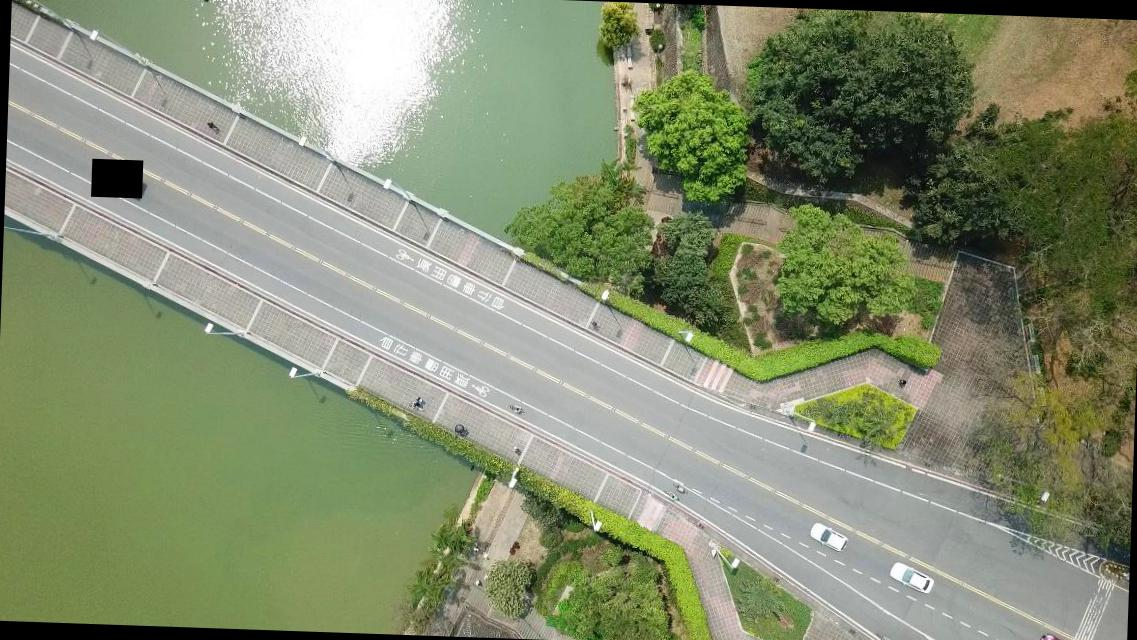vehicle: (888, 561, 934, 594), (808, 522, 848, 552), (1037, 632, 1087, 639)
